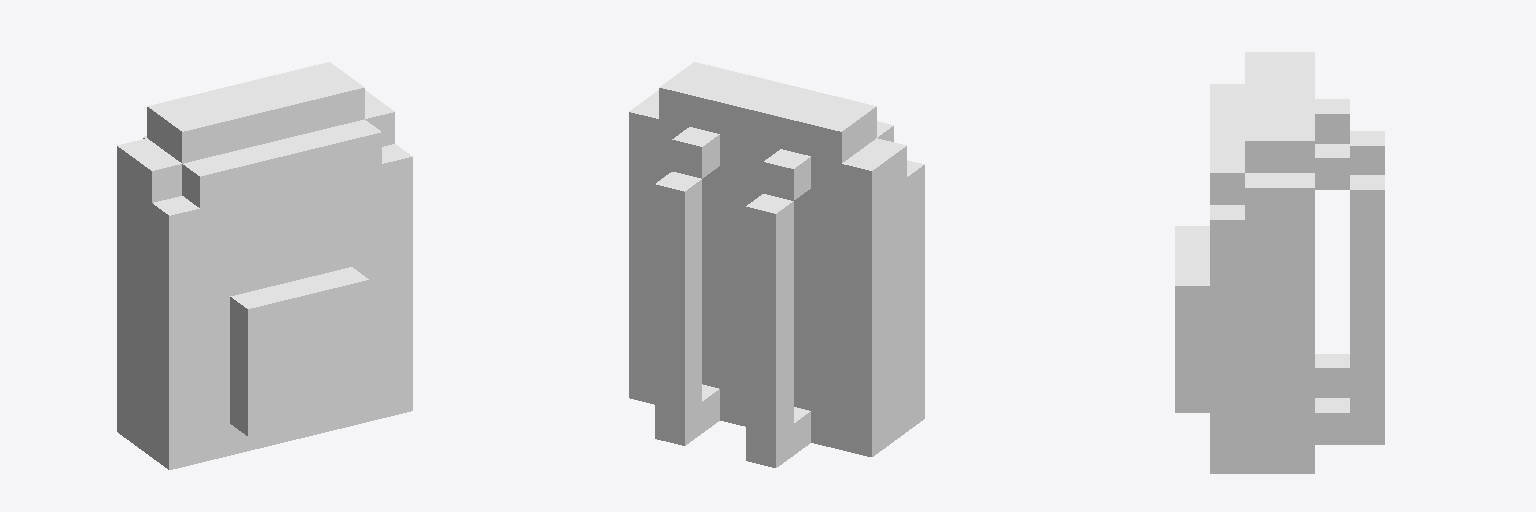
Rendered from bag1.obj.
3 renders of one model, left to right at view 1: azimuth 30°, elevation 25°; view 2: azimuth 150°, elevation 25°; view 3: azimuth 270°, elevation 25°, orthographic.
Bounding box in the file's own units: 0.4 × 0.5 × 0.3.